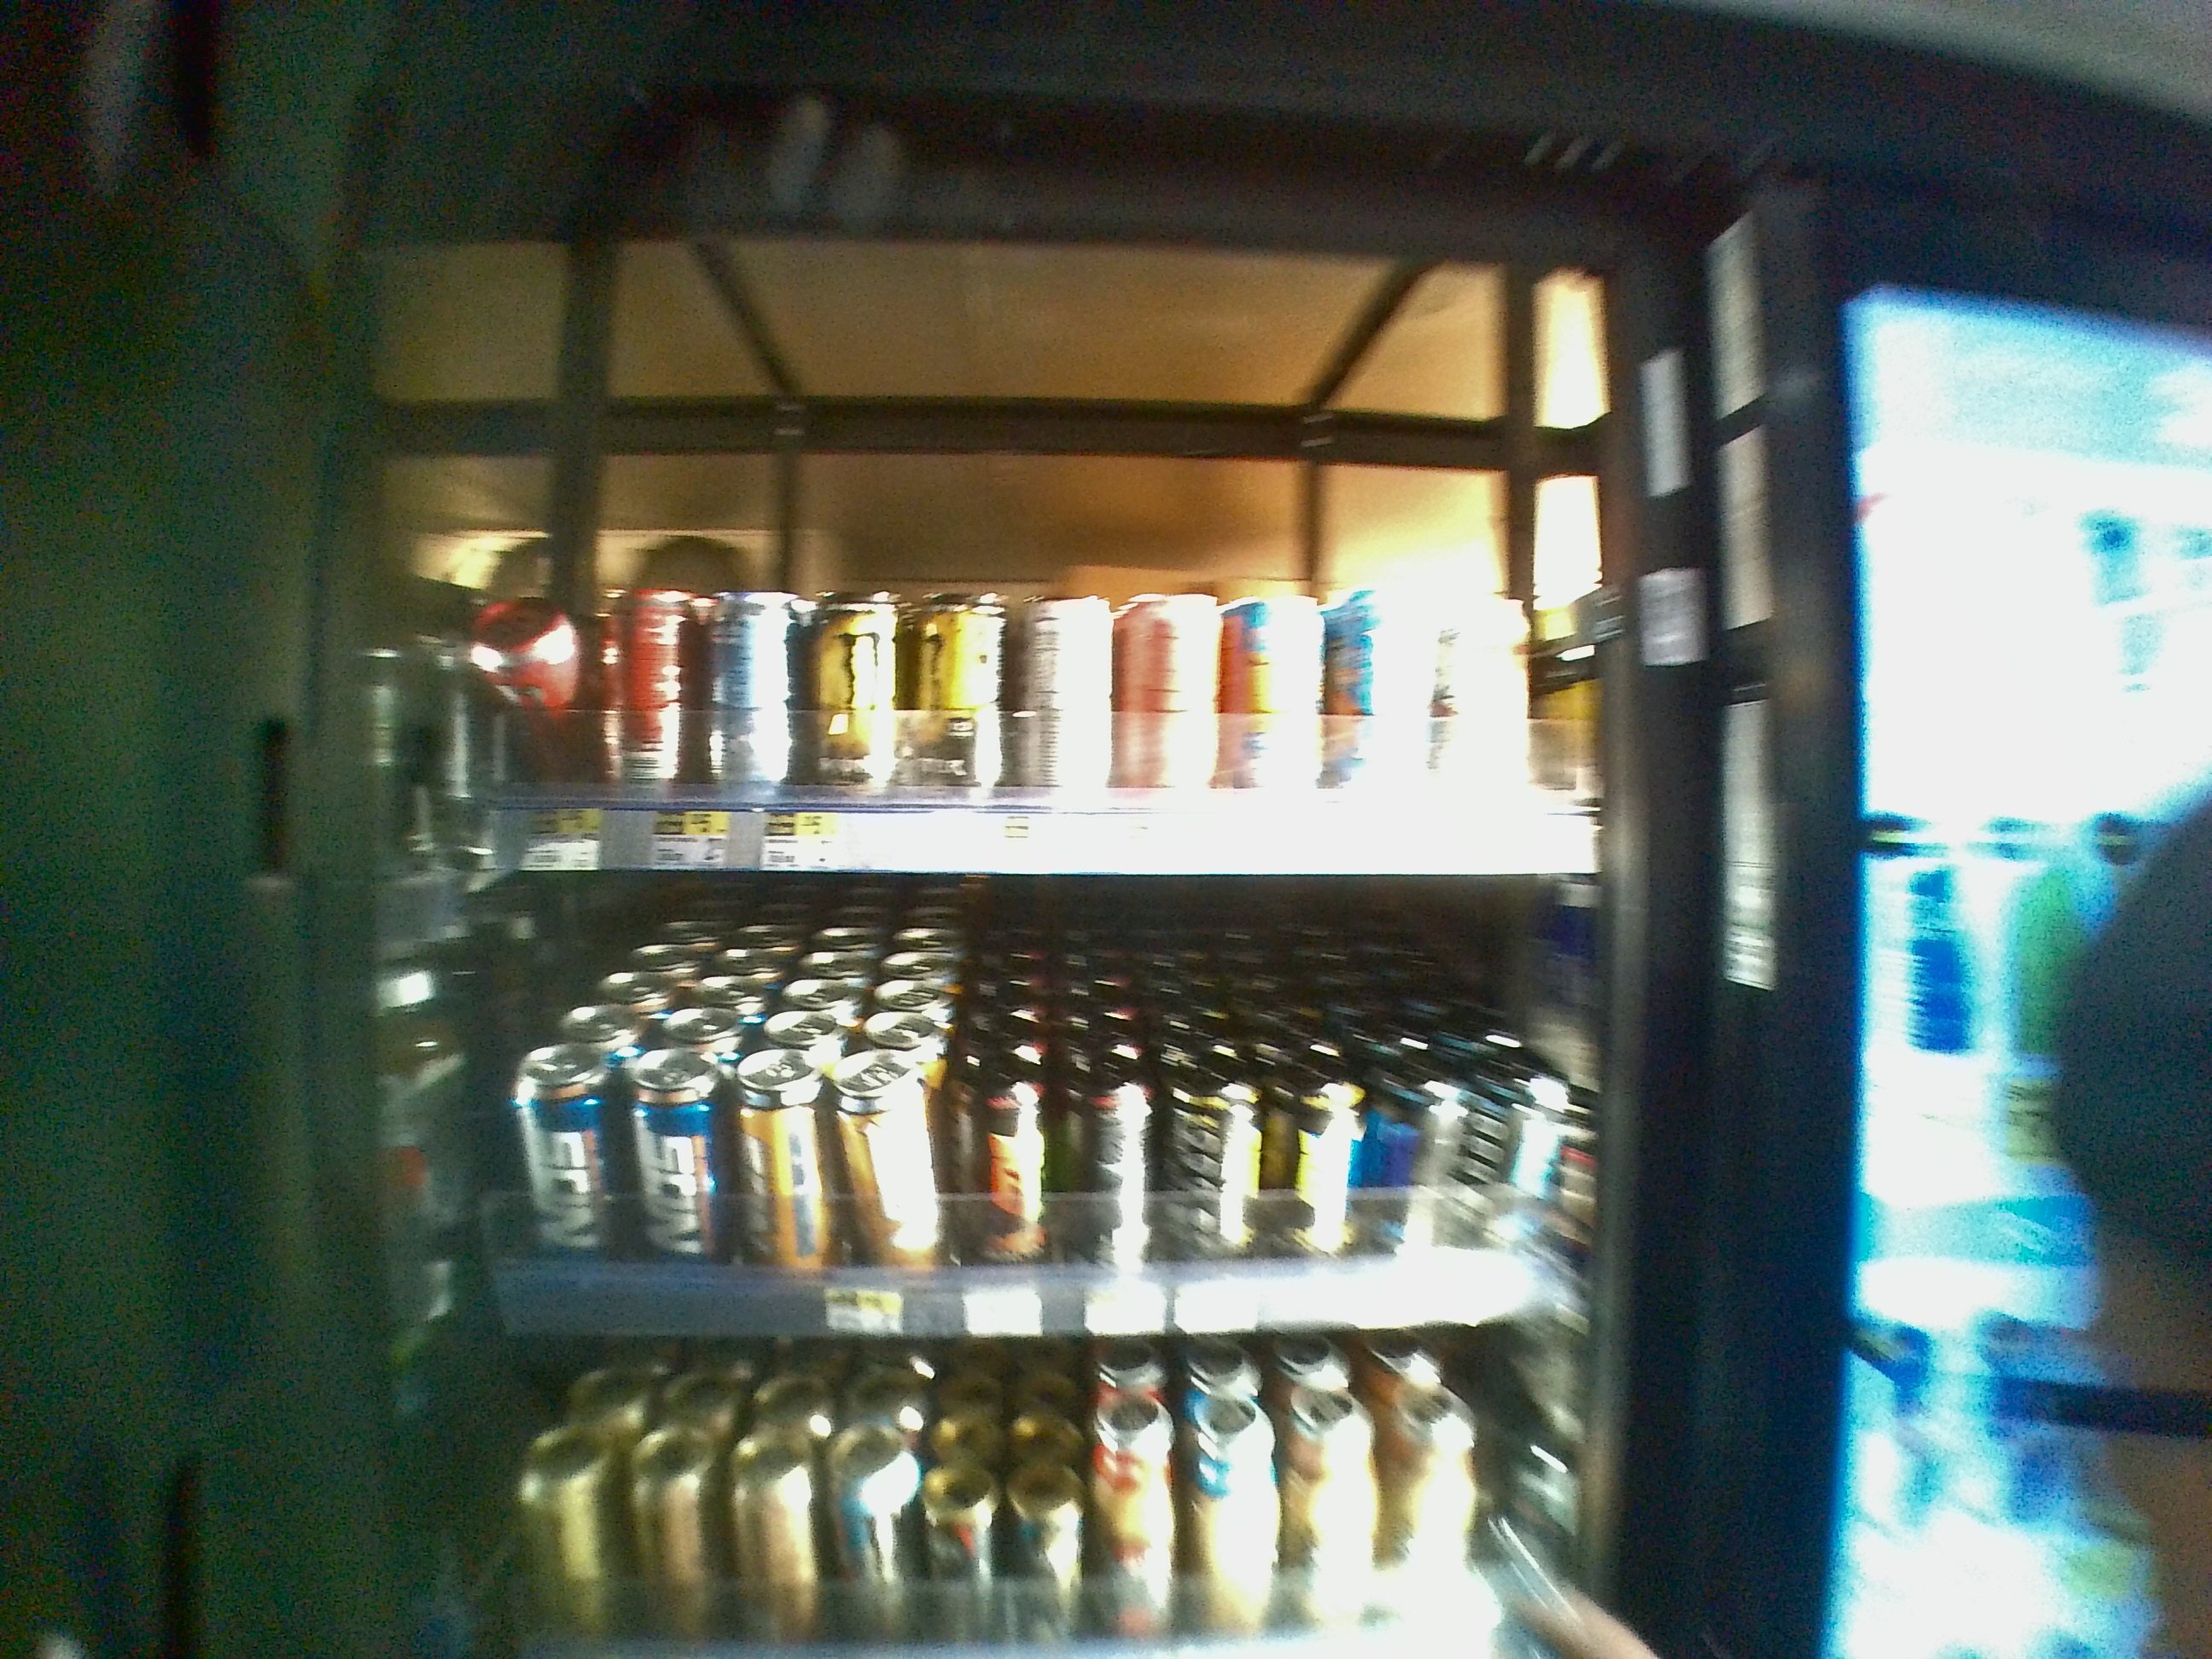shelf: (369, 246, 1604, 875), (348, 875, 1611, 1321)
